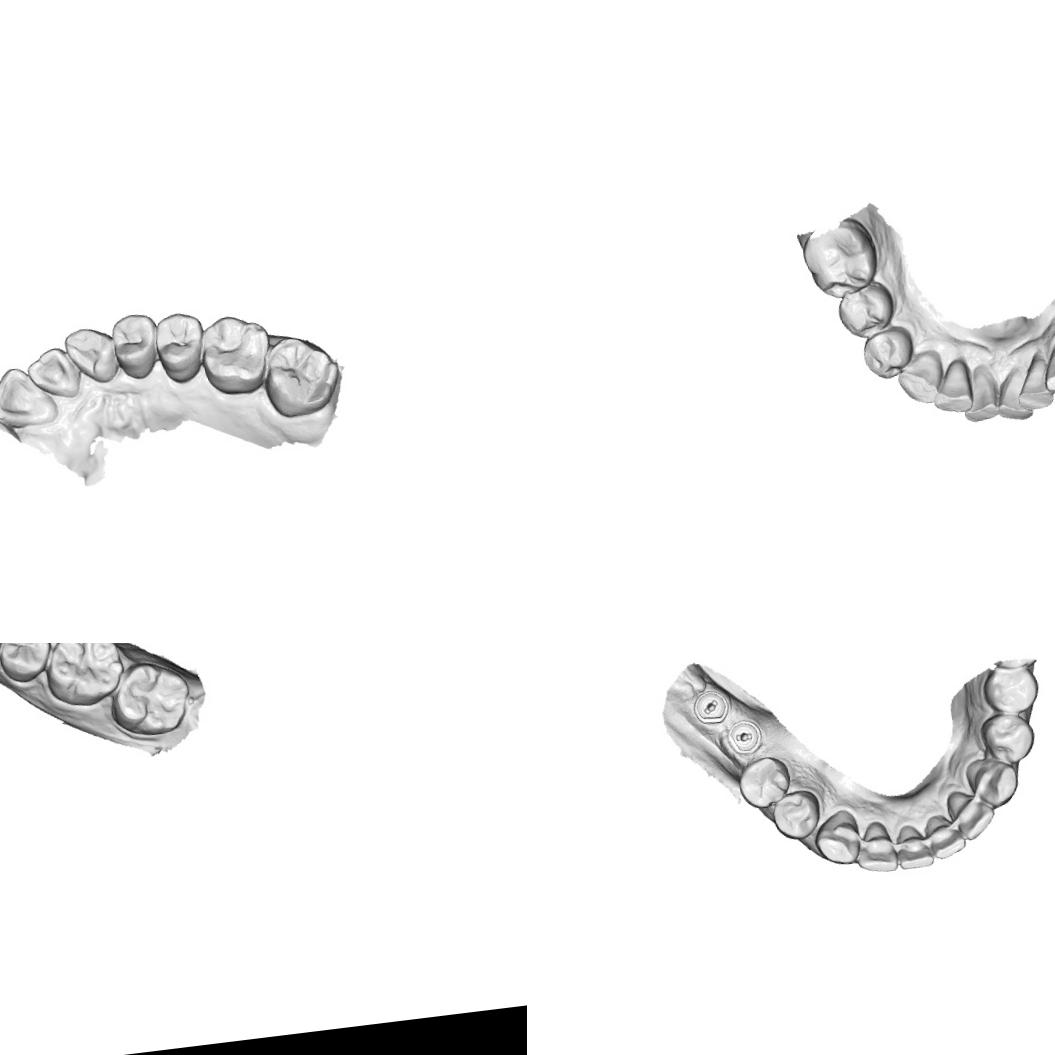canine: (60, 322, 122, 389), (962, 754, 1024, 813), (809, 806, 864, 870), (894, 347, 949, 410), (1038, 332, 1055, 394)
implant_minus: (689, 686, 732, 728), (723, 717, 765, 759)
incisor: (0, 361, 60, 433), (23, 344, 82, 404), (943, 785, 999, 844), (851, 815, 901, 877), (958, 362, 1004, 426), (928, 356, 976, 416), (1011, 349, 1055, 412), (992, 362, 1036, 424), (922, 810, 970, 862), (893, 820, 935, 872)
molar: (102, 654, 195, 742), (258, 330, 345, 422), (196, 309, 276, 399), (798, 216, 880, 302), (39, 643, 128, 712)
premolar: (150, 308, 209, 386), (858, 322, 921, 385), (834, 279, 899, 339), (976, 710, 1040, 770), (109, 310, 162, 382), (734, 752, 797, 812), (978, 661, 1044, 718), (768, 787, 824, 844), (0, 643, 57, 687)
